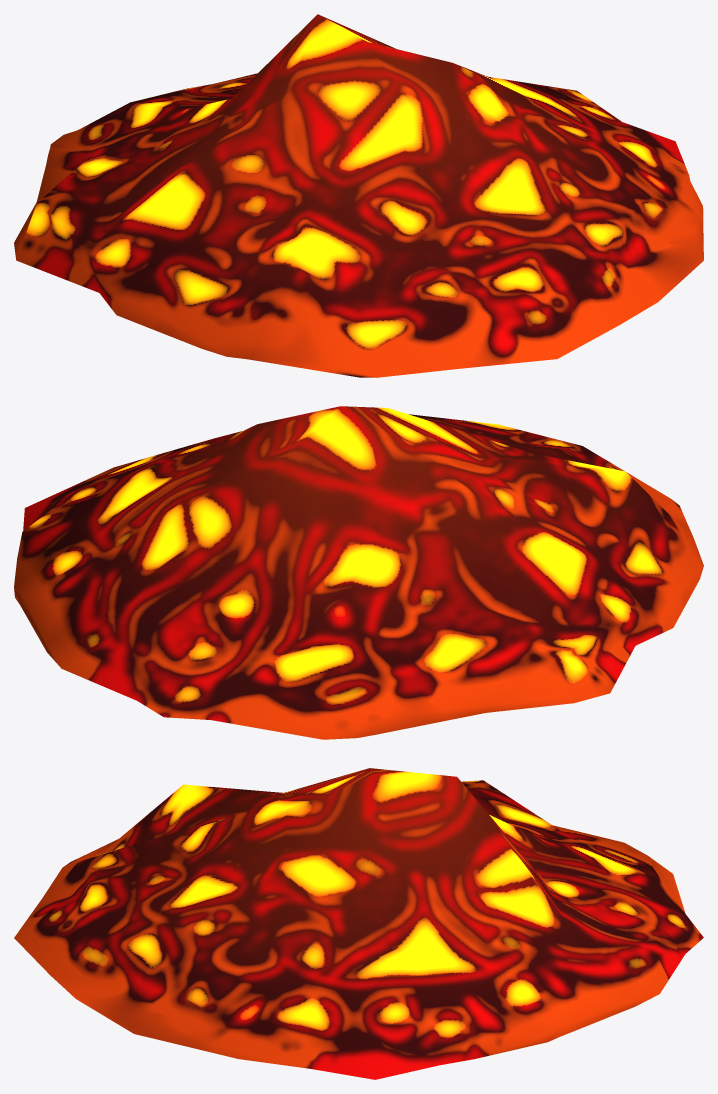
The model's file is lava .glb.
3 views of the same model, one above another, from view 1: azimuth 30°, elevation 25°; view 2: azimuth 150°, elevation 25°; view 3: azimuth 270°, elevation 25° (orthographic). The views are drawn at different scales.
Parts seen in each view (by area): view 1: Lava_low; view 2: Lava_low; view 3: Lava_low.
Part boxes in pixels (x1,y1,x2,y2): Lava_low: [14, 14, 703, 377]; Lava_low: [14, 406, 703, 739]; Lava_low: [14, 768, 703, 1079].
Size of the model in its own units: 2.09 by 0.5687 by 2.17.
1 material, 1 textured.
